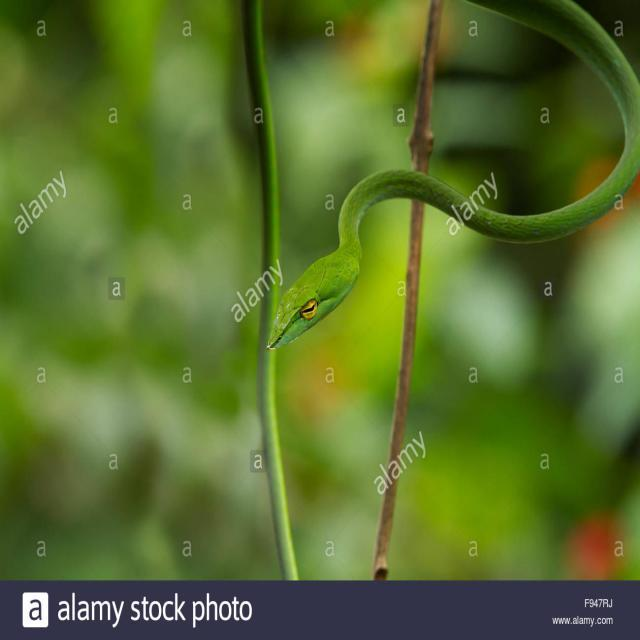Snake: (259, 0, 639, 360)
